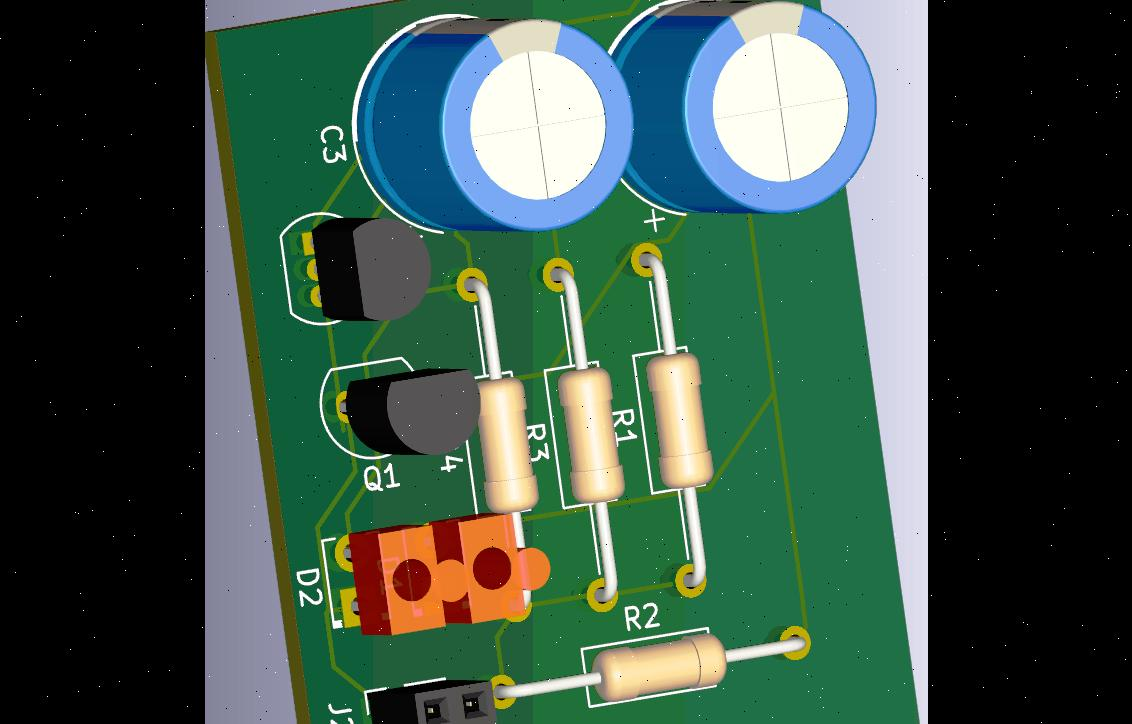capacitor: (356, 15, 633, 233), (615, 0, 878, 219)
diode_smd_orange: (317, 524, 471, 636), (430, 515, 550, 629)
resistor: (582, 630, 714, 709), (556, 364, 626, 508), (646, 352, 712, 490), (474, 376, 540, 514)
transistor: (302, 215, 434, 321), (338, 366, 483, 456)
